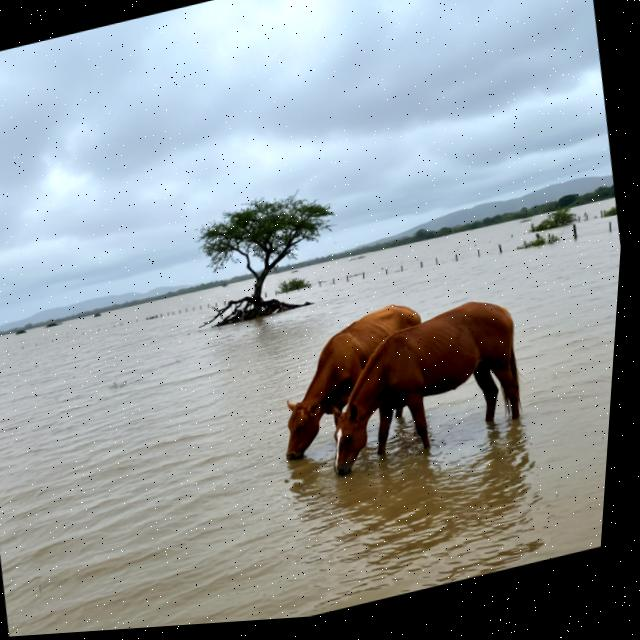cow: (257, 290, 450, 477)
horse: (306, 288, 540, 485)
